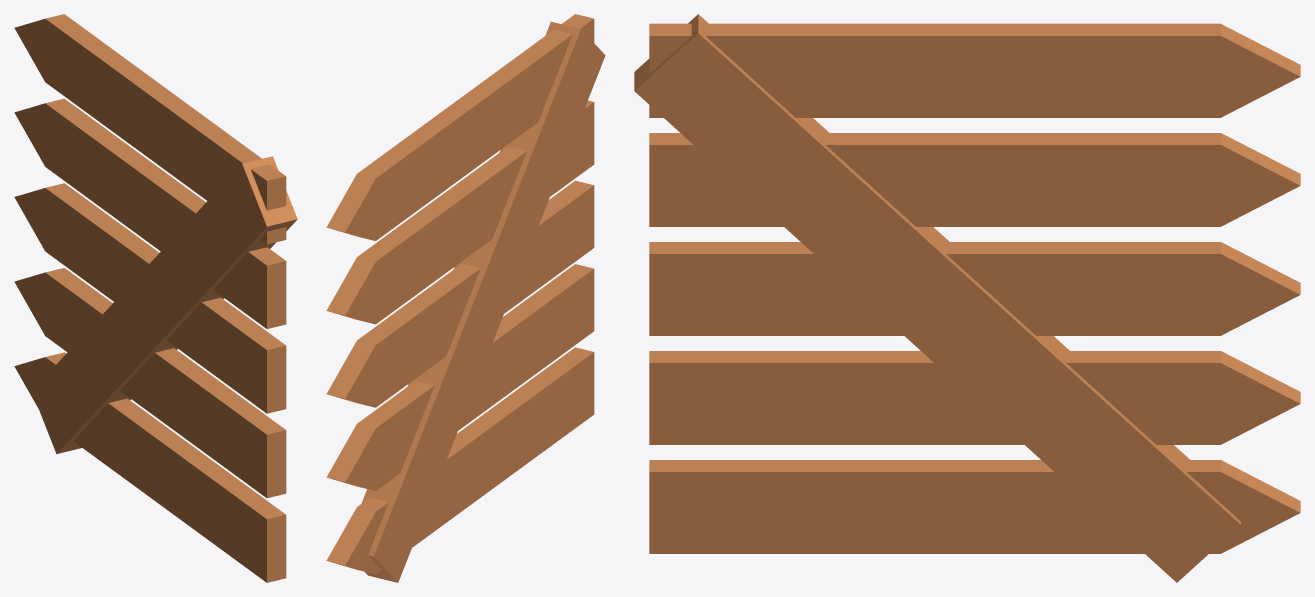
The model's file is fence.fbx.
The picture shows the model from 3 angles, left to right: view 1: azimuth 30°, elevation 25°; view 2: azimuth 150°, elevation 25°; view 3: azimuth 270°, elevation 25°; orthographic projection. The views are drawn at different scales.
Visible parts, largest first — view 1: FenceOk, FenceBroken; view 2: FenceOk, FenceBroken; view 3: FenceOk, FenceBroken.
Part boxes in pixels (x1,y1,x2,y2): FenceOk: (14,14,295,581); FenceBroken: (167,107,297,582); FenceOk: (326,14,604,582); FenceBroken: (483,14,605,463); FenceOk: (635,15,1300,582); FenceBroken: (634,14,895,553).
Size of the model in its own units: 11654 by 799 by 10610.
